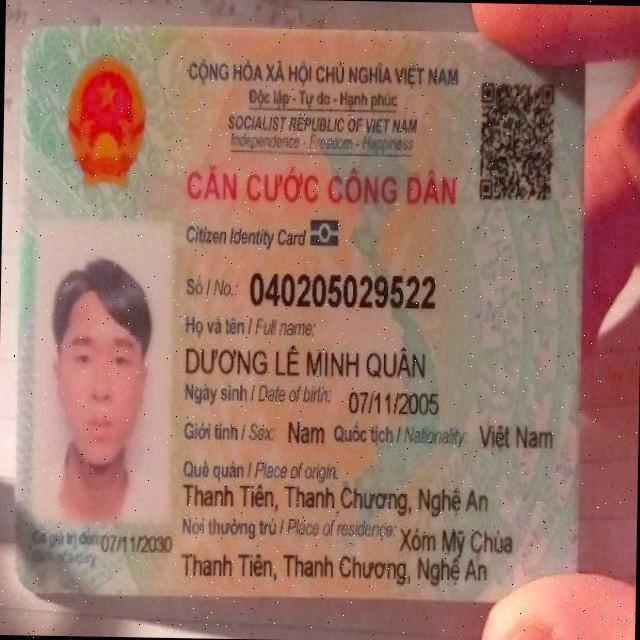current_place: (176, 547, 492, 592), (398, 520, 518, 560)
dob: (346, 382, 442, 419)
expire_date: (96, 530, 173, 555)
gender: (284, 412, 328, 452)
id: (245, 262, 441, 316)
name: (183, 342, 427, 382)
nationality: (474, 416, 560, 454)
origin_place: (183, 477, 491, 518)
